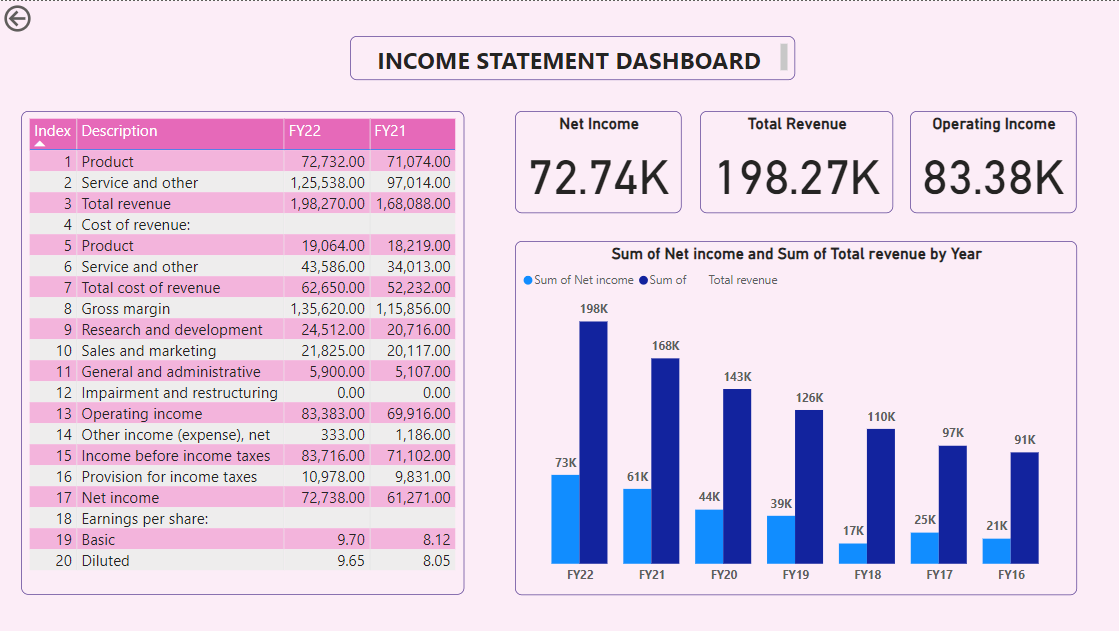

The dashboard page shown, as its layout file describes it:
{"tool":"powerbi","page":{"name":"Dashboard","canvas":[1280,720],"ordinal":0},"visuals":[{"type":"textbox","box":[400.7,39.8,509.1,50.8],"z":0},{"type":"tableEx","fields":{"Values":["Dataset.Index","Dataset.Description","Dataset.FY22","Dataset.FY21"]},"box":[24.7,126.2,506.3,553],"z":1000},{"type":"card","title":"Net Income","fields":{"Values":["Sum(Net Income.FY22)"]},"box":[588.7,126.2,190.7,116.6],"z":2000},{"type":"actionButton","box":[0,0,100,40],"z":2001},{"type":"card","title":"Operating Income","fields":{"Values":["Sum(Operating Income.FY22)"]},"box":[1040.1,126.2,190.7,116.6],"z":2002},{"type":"card","title":"Total Revenue","fields":{"Values":["Sum(Total Revenue.FY22)"]},"box":[800,126.2,220.9,116.6],"z":2003},{"type":"clusteredColumnChart","title":"Sum of  Net income and Sum of       Total revenue by Year","fields":{"Category":["Table.Description"],"Y":["Sum(Table.Net income)","Sum(Table.      Total revenue)"]},"box":[588.7,274.4,642.2,404.8],"z":2004}]}

Visuals, with their boxes in screenshot pixels (x1, y1, x2, y2), scaled from the page's 1280x720 canvas onto the 1119x631 screenshot:
textbox: <box>350,35,795,79</box>
tableEx - Dataset.Index x Dataset.Description: <box>22,111,464,595</box>
"Net Income" card: <box>515,111,681,213</box>
actionButton: <box>0,0,87,35</box>
"Operating Income" card: <box>909,111,1076,213</box>
"Total Revenue" card: <box>699,111,892,213</box>
"Sum of  Net income and Sum of       Total revenue by Year" clusteredColumnChart: <box>515,240,1076,595</box>
